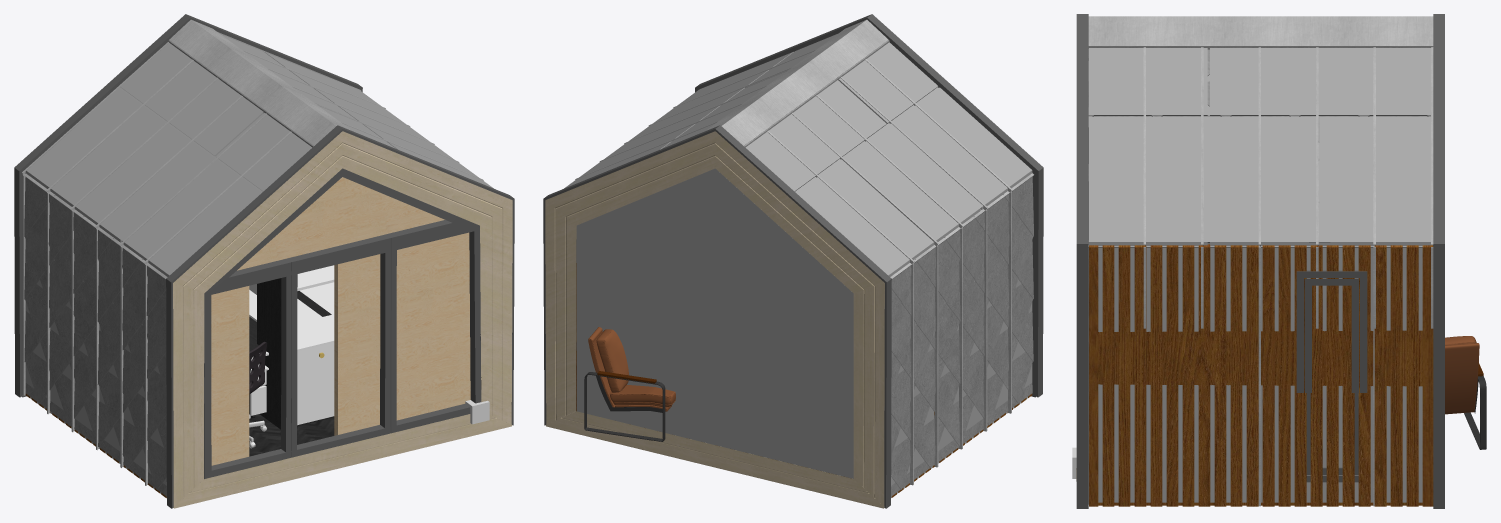
File: brensjtest1.glb
The picture shows the model from 3 angles, left to right: view 1: azimuth 30°, elevation 25°; view 2: azimuth 150°, elevation 25°; view 3: azimuth 270°, elevation 25°; orthographic projection. The views are drawn at different scales.
Visible parts, largest first — view 1: Equitone, frame, leien, frametussenscheiding1, framewindow, zink, kast5_Meubilair, frametussenscheiding3, frameback, framewindow2, floor, tafel2 (+3 smaller); view 2: backwall, Equitone, frameback, leien, zink, frame, zetel1; view 3: Equitone, thermowood, zink, frame, frameback, sWindow1, zetel1, leien.
Part boxes in pixels (x1=…): Equitone: x1=25, y1=34, x2=493, y2=485; frame: x1=166, y1=125, x2=514, y2=508; leien: x1=24, y1=40, x2=313, y2=496; frametussenscheiding1: x1=249, y1=177, x2=470, y2=434; framewindow: x1=204, y1=168, x2=481, y2=478; zink: x1=22, y1=19, x2=483, y2=497; kast5_Meubilair: x1=257, y1=265, x2=334, y2=429; frametussenscheiding3: x1=211, y1=260, x2=249, y2=465; frameback: x1=14, y1=14, x2=362, y2=397; framewindow2: x1=211, y1=220, x2=473, y2=468; floor: x1=249, y1=414, x2=334, y2=456; tafel2: x1=249, y1=341, x2=268, y2=448; backwall: x1=576, y1=168, x2=853, y2=478; Equitone: x1=564, y1=34, x2=1032, y2=485; frameback: x1=543, y1=125, x2=891, y2=508; leien: x1=744, y1=40, x2=1033, y2=496; zink: x1=575, y1=19, x2=1033, y2=497; frame: x1=695, y1=14, x2=1043, y2=397; zetel1: x1=584, y1=327, x2=675, y2=441; Equitone: x1=1088, y1=48, x2=1432, y2=502; thermowood: x1=1089, y1=244, x2=1433, y2=506; zink: x1=1088, y1=16, x2=1433, y2=506; frame: x1=1076, y1=14, x2=1088, y2=508; frameback: x1=1433, y1=14, x2=1444, y2=508; sWindow1: x1=1296, y1=270, x2=1367, y2=482; zetel1: x1=1445, y1=336, x2=1486, y2=449; leien: x1=1088, y1=46, x2=1432, y2=464.
Size of the model in its own units: 39.49 by 37.23 by 35.15.
Materials: 41 (12 with a texture image).
